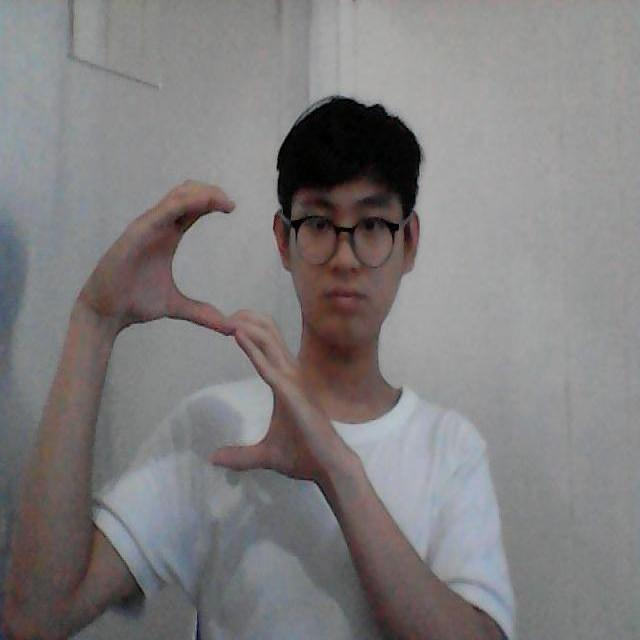S: (150, 168, 294, 488)
